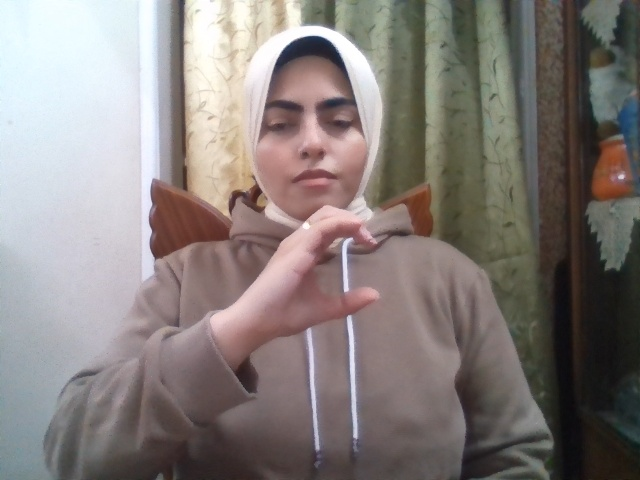C: (258, 205, 378, 338)
